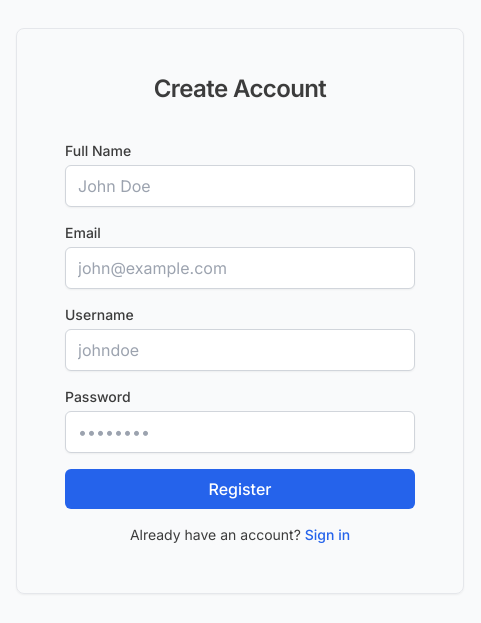
Authentication Components › RegisterPage › validates password strength
Type "weak" into the password field labelled "Password" at (240, 432), box [65, 411, 415, 453]
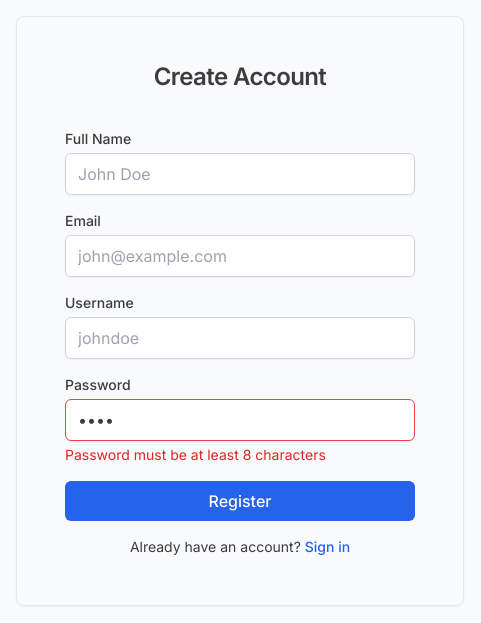
expect the text "Password must be at least 8 characters" is shown: met, box [65, 446, 326, 463]
